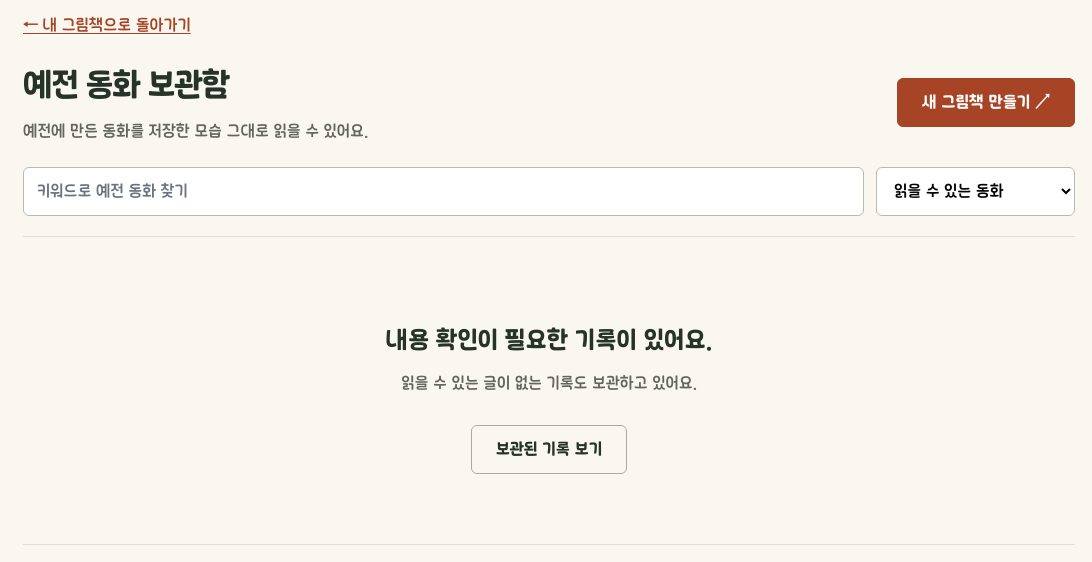
Test case: MyStoryLibrary discovery › preserves the archive's empty-record recovery without picturebook filters
expect the heading "내용 확인이 필요한 기록이 있어요." is shown: met, box [386,327,712,354]
What coordinates should you click on to do the following:
click the button "보관된 기록 보기"
I would click on:
 (549, 449)
Its box is [471,424,627,474].
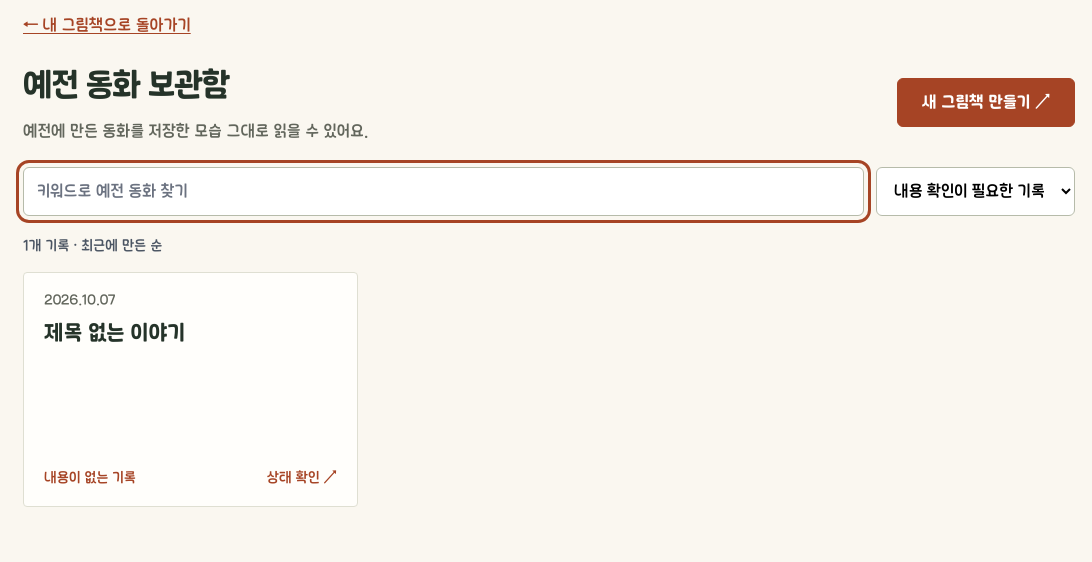
expect the heading "제목 없는 이야기" is shown: met, box [44,321,185,345]
expect the text "내용이 없는 기록" is shown: met, box [44,470,136,486]
